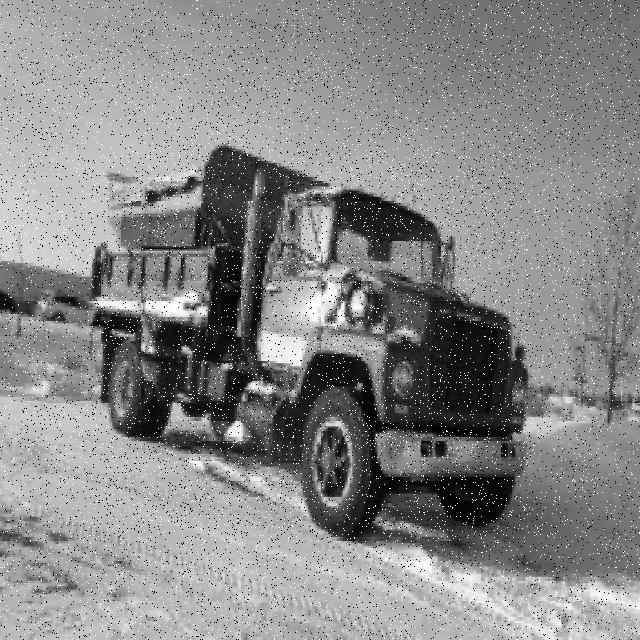Box Truck: (86, 147, 528, 543)
